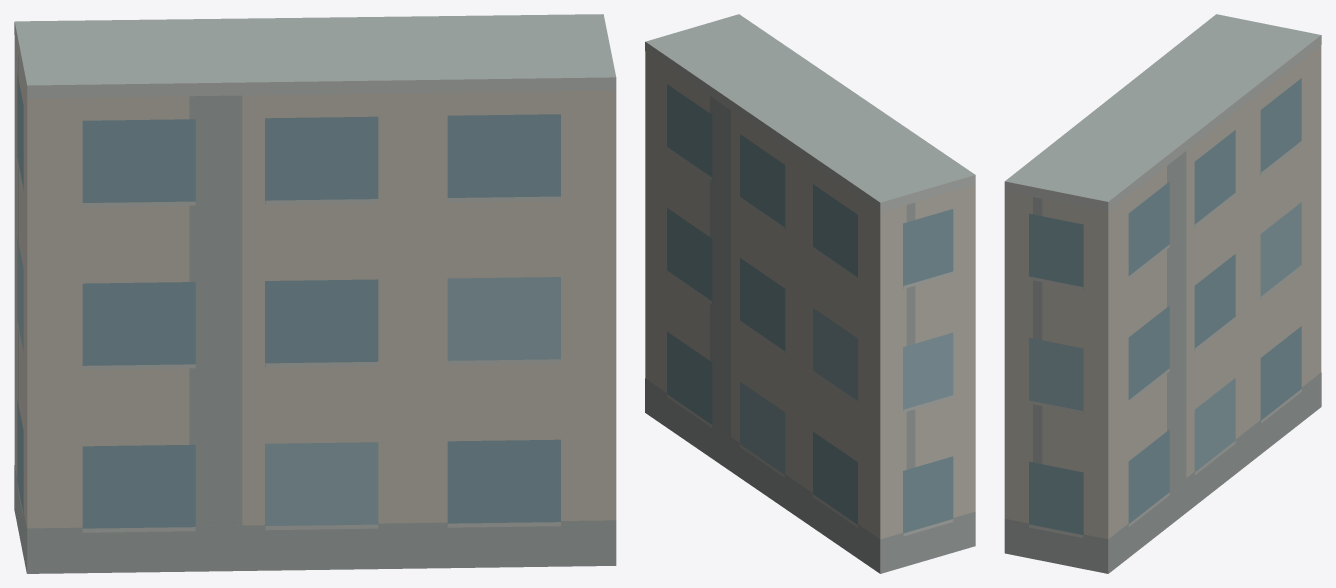
File: survey-upis-32743805.glb
3 renders of one model, left to right at view 1: azimuth 30°, elevation 25°; view 2: azimuth 150°, elevation 25°; view 3: azimuth 270°, elevation 25°, orthographic. The views are drawn at different scales.
Visible parts, largest first — view 1: survey-upis-32743805.tmp; view 2: survey-upis-32743805.tmp; view 3: survey-upis-32743805.tmp.
Part boxes in pixels (x1,y1,x2,y2): survey-upis-32743805.tmp: [14, 14, 616, 573]; survey-upis-32743805.tmp: [645, 14, 975, 573]; survey-upis-32743805.tmp: [1004, 14, 1321, 573].
Bounding box in the file's own units: 9.92 × 9.15 × 7.07.
